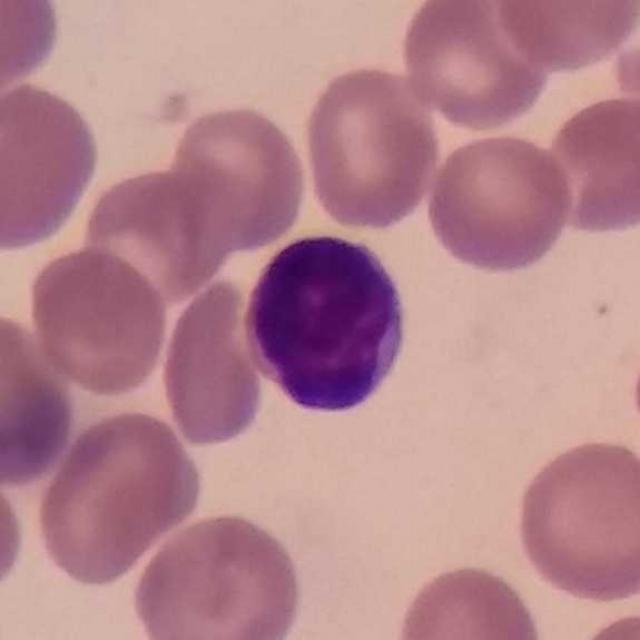Lymphocyte: (235, 222, 417, 425)
RBC: (30, 405, 207, 589), (297, 59, 444, 234), (77, 159, 241, 310), (129, 507, 307, 640), (422, 128, 578, 277), (164, 98, 312, 255), (24, 242, 172, 398), (510, 434, 640, 607), (395, 0, 554, 134), (156, 272, 268, 450), (0, 77, 104, 256), (538, 88, 640, 239), (0, 306, 79, 491), (389, 558, 547, 640), (489, 0, 640, 74), (0, 0, 67, 109), (0, 463, 28, 608), (562, 603, 640, 640)
